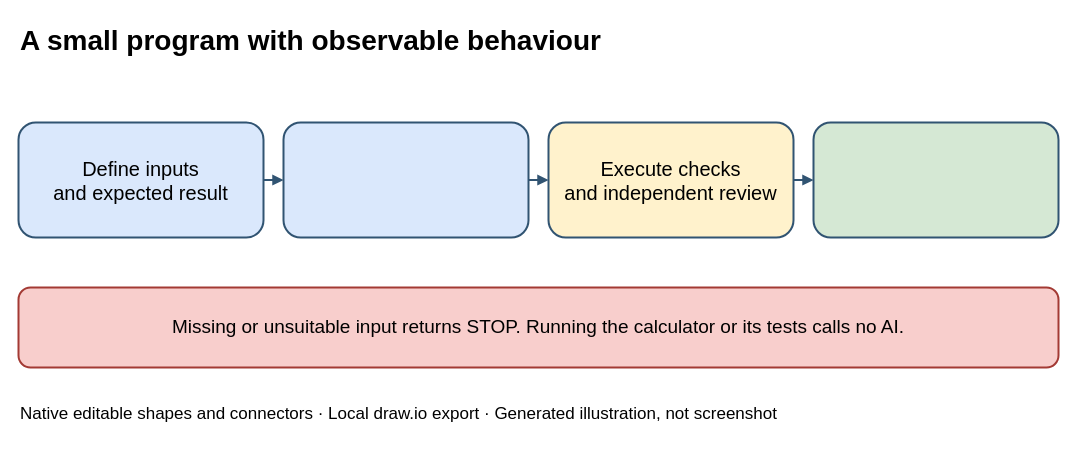
The diagram is 1076 pixels wide and 464 high, and some of its shapes have lost their labels. The shapes that lost their labels are listed below. From the top down, each one's box as (x1, y1, x2, y2) in pixels, then its label:
(282, 121, 529, 238): Produce one bounded candidate
(812, 121, 1059, 238): Correct or deliver with evidence
